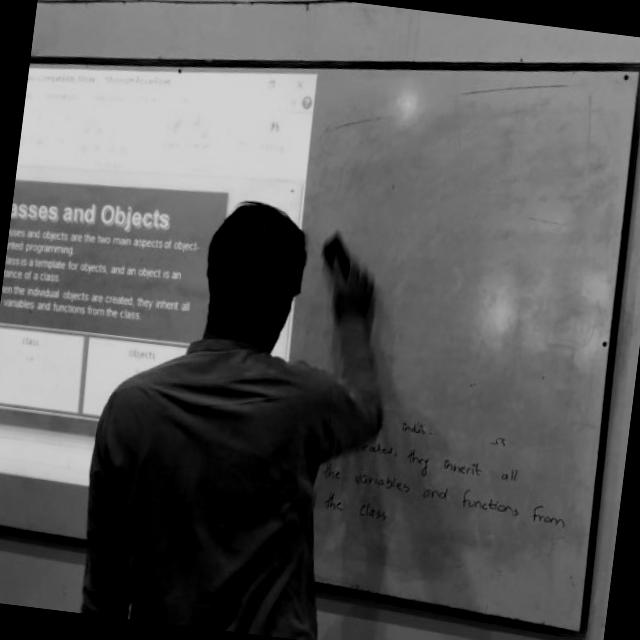Instructor: (113, 192, 370, 640)
Slide: (0, 64, 320, 570)
White-board: (0, 47, 640, 639)
